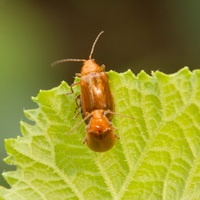insect: (51, 31, 117, 151)
